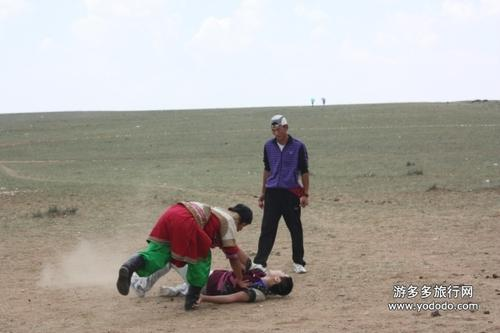fall: (162, 259, 300, 308)
